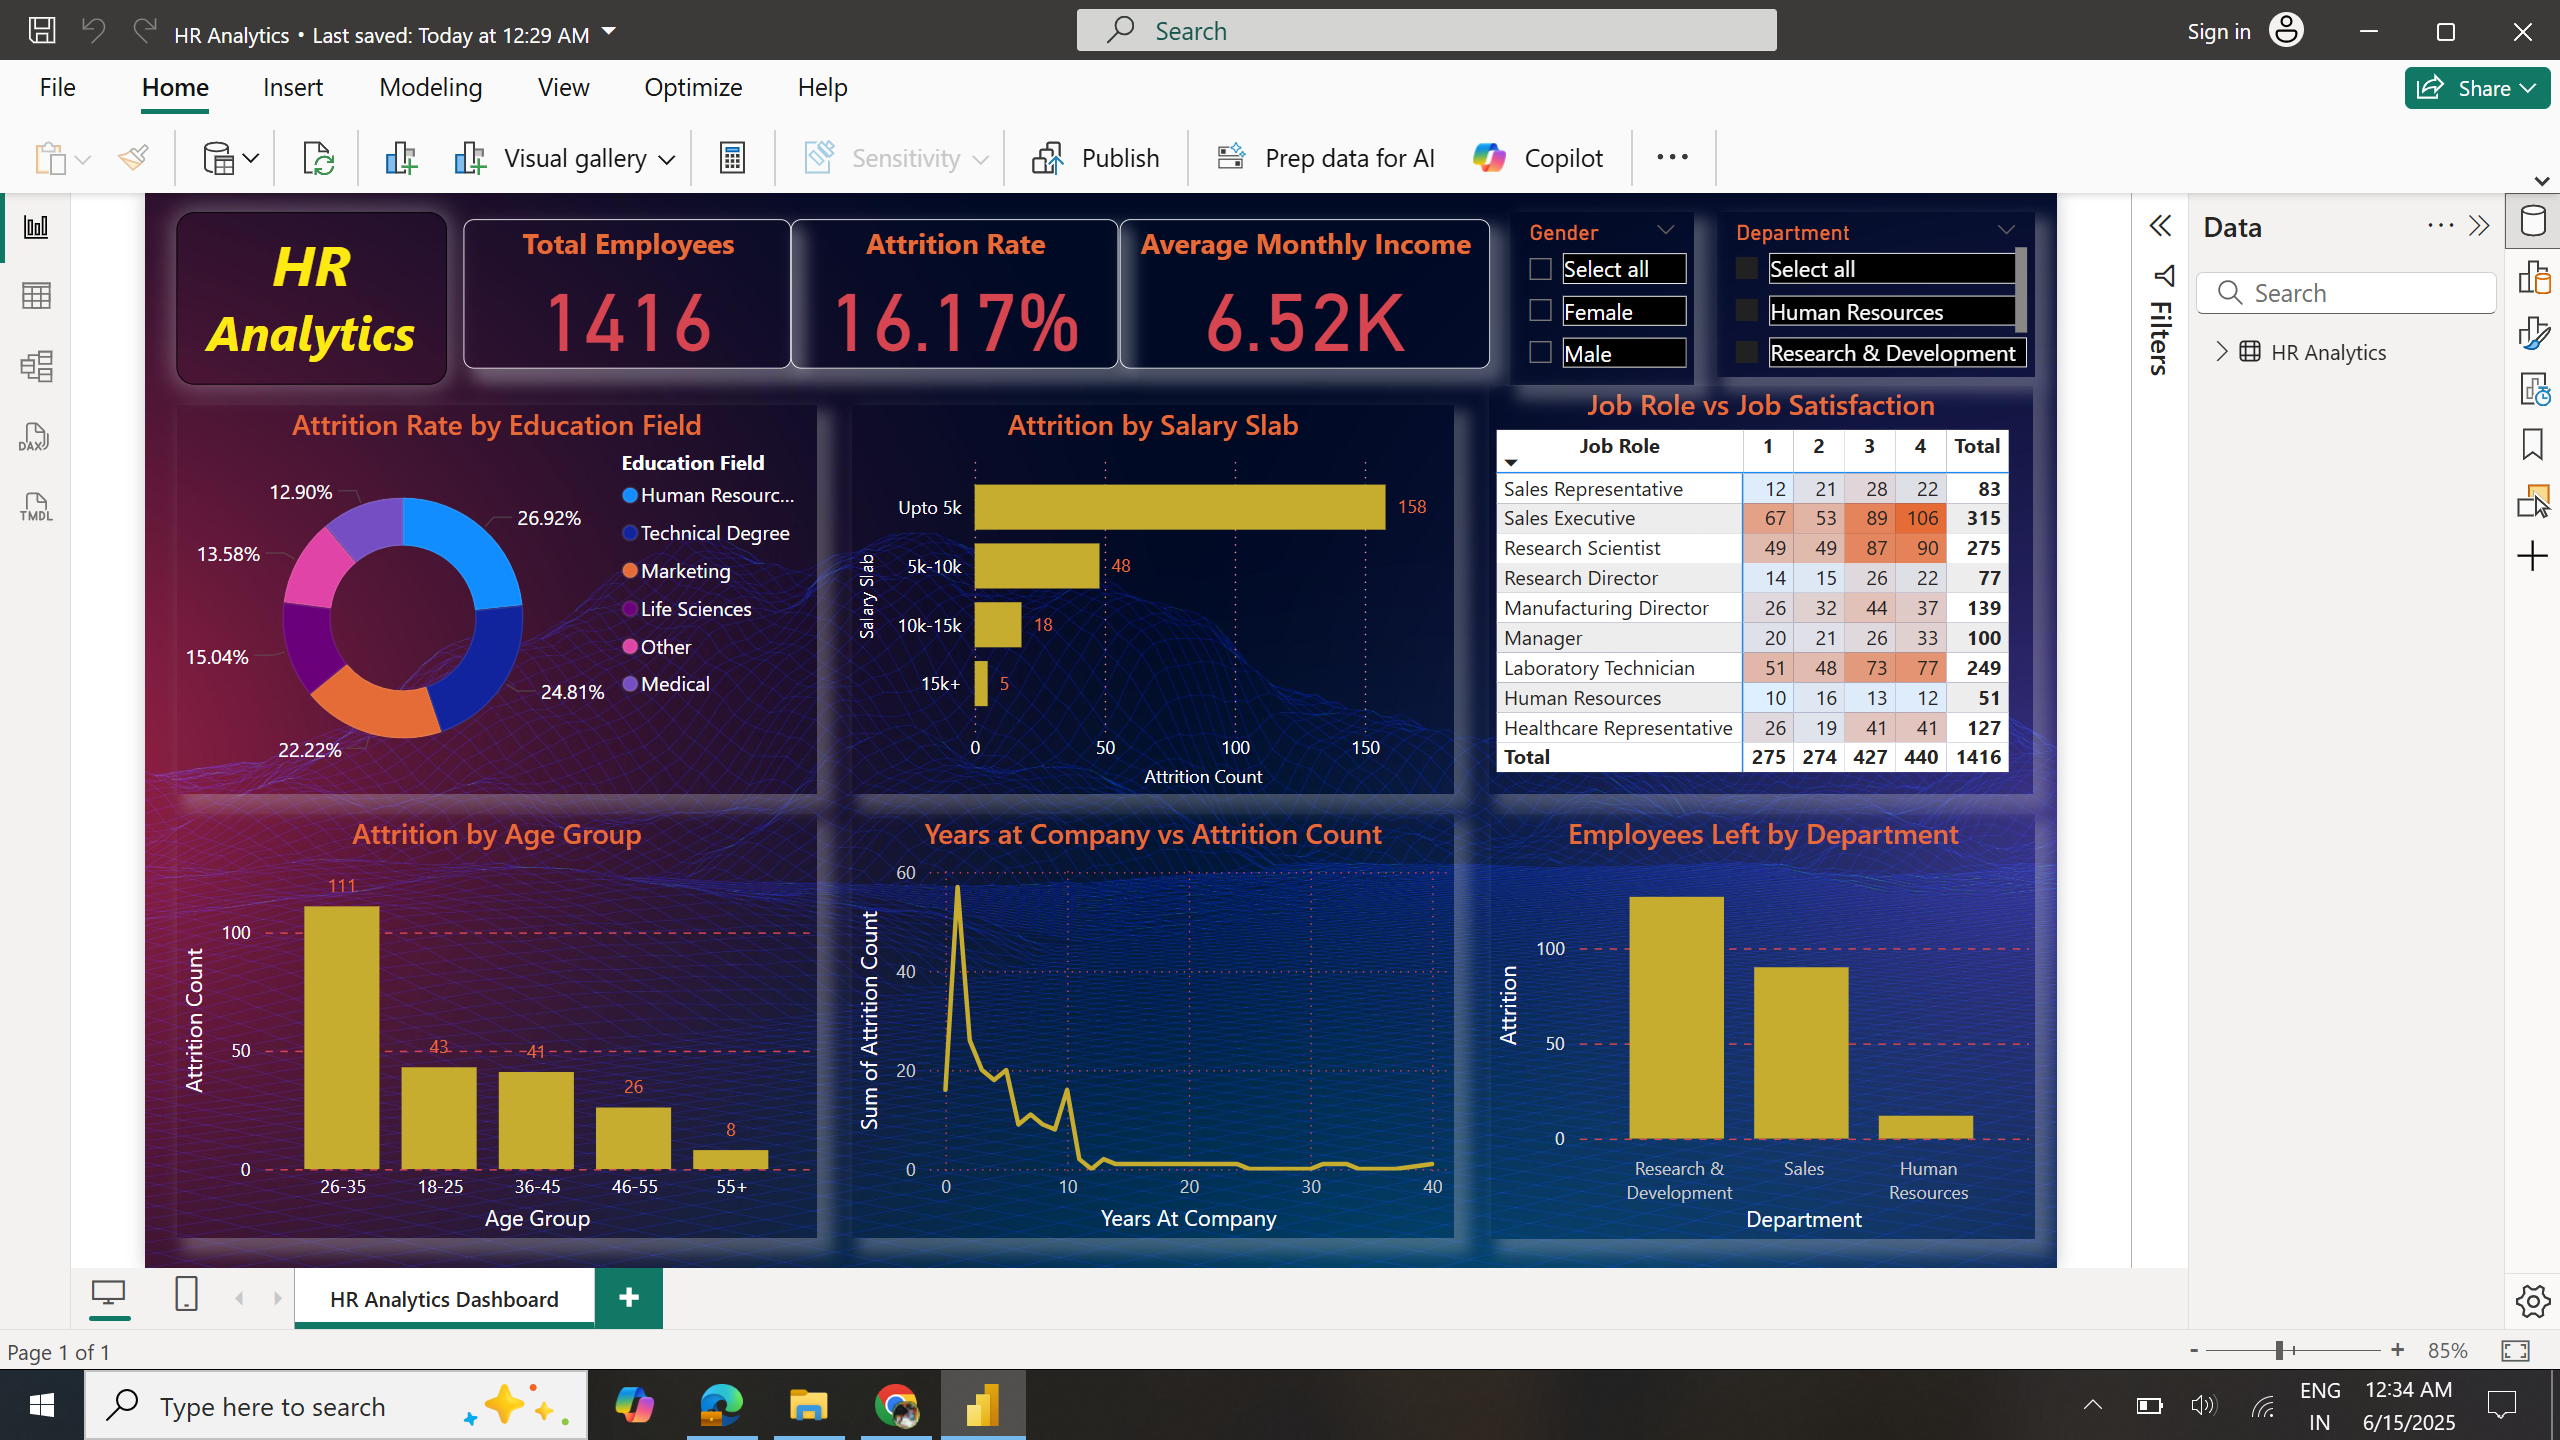

The dashboard page shown, as its layout file describes it:
{"tool":"powerbi","page":{"name":"HR Analytics Dashboard","canvas":[1280,720],"ordinal":0},"visuals":[{"type":"card","title":"Total Employees ","fields":{"Values":["HR Analytics.Total Employees"]},"box":[213.2,18,219.6,100.2],"z":0},{"type":"donutChart","fields":{"Y":["HR Analytics.Attrition Rate"],"Category":["HR Analytics.Education Field"]},"box":[20.6,141.3,429,260.7],"z":1000},{"type":"card","title":"Attrition Rate","fields":{"Values":["HR Analytics.Attrition Rate"]},"box":[432.8,18,219.6,100.2],"z":2000},{"type":"card","title":"Average Monthly Income","fields":{"Values":["HR Analytics.AVG Monthly Income"]},"box":[652.5,18,247.9,100.2],"z":3000},{"type":"clusteredColumnChart","title":"Attrition by Age Group","fields":{"Category":["HR Analytics.Age Group"],"Y":["Sum(HR Analytics.Attrition Count)"]},"box":[20.6,416.2,429,283.9],"z":4000},{"type":"barChart","title":"Attrition by Salary Slab","fields":{"Category":["HR Analytics.Salary Slab"],"Y":["Sum(HR Analytics.Attrition Count)"]},"box":[473.9,141.3,403.3,260.7],"z":5000},{"type":"pivotTable","title":"Job Role vs Job Satisfaction","fields":{"Rows":["HR Analytics.Job Role"],"Columns":["HR Analytics.Job Satisfaction"],"Values":["CountNonNull(HR Analytics.Employee Number)"]},"box":[900.4,128.4,364.8,273.6],"z":6000},{"type":"lineChart","title":"Years at Company vs Attrition Count","fields":{"Category":["HR Analytics.Years At Company"],"Y":["Sum(HR Analytics.Attrition Count)"]},"box":[473.9,416.2,403.3,283.9],"z":7000},{"type":"columnChart","title":"Employees Left by Department","fields":{"Category":["HR Analytics.Department"],"Y":["Sum(HR Analytics.Attrition Count)"]},"box":[900.6,415.9,364.8,284.5],"z":8000},{"type":"slicer","fields":{"Values":["HR Analytics.Gender"]},"box":[914.5,12.8,123.3,115.6],"z":9000},{"type":"slicer","fields":{"Values":["HR Analytics.Department"]},"box":[1051.9,12.8,213.2,110.5],"z":10000},{"type":"textbox","box":[20.6,12.8,181.1,115.6],"z":11000}]}

Visuals, with their boxes on the page's 1280x720 design canvas (x1, y1, x2, y2). These are canvas units, not pixel positions in the 2560x1440 screenshot, which may show the page scaled, cropped or inside an application window:
"Total Employees " card: 213:18:433:118
donutChart - HR Analytics.Attrition Rate x HR Analytics.Education Field: 21:141:450:402
"Attrition Rate" card: 433:18:652:118
"Average Monthly Income" card: 652:18:900:118
"Attrition by Age Group" clusteredColumnChart: 21:416:450:700
"Attrition by Salary Slab" barChart: 474:141:877:402
"Job Role vs Job Satisfaction" pivotTable: 900:128:1265:402
"Years at Company vs Attrition Count" lineChart: 474:416:877:700
"Employees Left by Department" columnChart: 901:416:1265:700
slicer - HR Analytics.Gender: 914:13:1038:128
slicer - HR Analytics.Department: 1052:13:1265:123
textbox: 21:13:202:128
